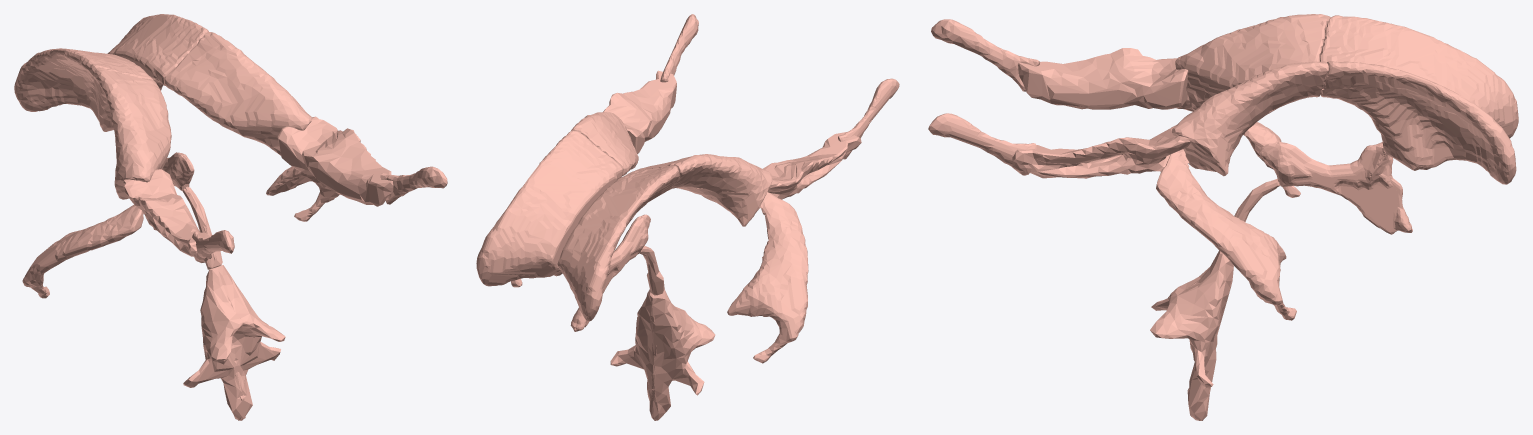
Rendered from ventricles.glb.
3 renders of one model, left to right at view 1: azimuth 30°, elevation 25°; view 2: azimuth 150°, elevation 25°; view 3: azimuth 270°, elevation 25°, orthographic. The views are drawn at different scales.
Parts seen in each view (by area): view 1: lateral_ventricle_rh, lateral_ventricle_lh, fourth_ventricle, third_ventricle, cerebral_aqueduct; view 2: lateral_ventricle_lh, lateral_ventricle_rh, fourth_ventricle, third_ventricle, cerebral_aqueduct; view 3: lateral_ventricle_rh, lateral_ventricle_lh, third_ventricle, fourth_ventricle, cerebral_aqueduct.
Boxes of the visible parts, <box> form: lateral_ventricle_rh: <box>107,14,447,221</box>; lateral_ventricle_lh: <box>14,48,234,298</box>; fourth_ventricle: <box>183,265,285,420</box>; third_ventricle: <box>162,152,194,191</box>; cerebral_aqueduct: <box>183,186,222,269</box>; lateral_ventricle_lh: <box>557,78,899,363</box>; lateral_ventricle_rh: <box>476,14,698,287</box>; fourth_ventricle: <box>610,289,715,420</box>; third_ventricle: <box>570,214,650,331</box>; cerebral_aqueduct: <box>639,245,664,295</box>; lateral_ventricle_rh: <box>928,61,1516,320</box>; lateral_ventricle_lh: <box>931,14,1518,197</box>; third_ventricle: <box>1259,142,1412,234</box>; fourth_ventricle: <box>1150,250,1233,420</box>; cerebral_aqueduct: <box>1234,178,1279,221</box>.
Size of the model in its own units: 108 by 111 by 159.
